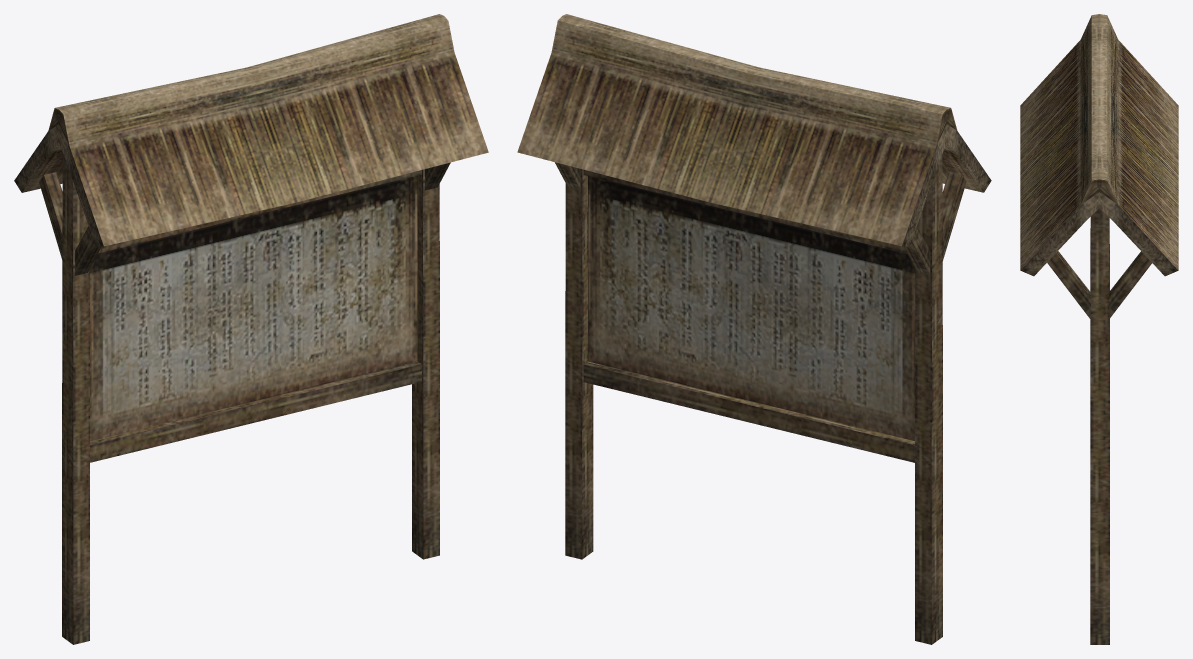
The model's file is desert_board01.fbx.
3 renders of one model, left to right at view 1: azimuth 30°, elevation 25°; view 2: azimuth 150°, elevation 25°; view 3: azimuth 270°, elevation 25°, orthographic. The views are drawn at different scales.
Parts seen in each view (by area): view 1: desert_board01; view 2: desert_board01; view 3: desert_board01.
Boxes of the visible parts, x1,y1,x2,y2 form: desert_board01: [14, 14, 488, 644]; desert_board01: [517, 14, 991, 644]; desert_board01: [1020, 14, 1178, 644].
Size of the model in its own units: 2.27 by 3.01 by 0.9184.
